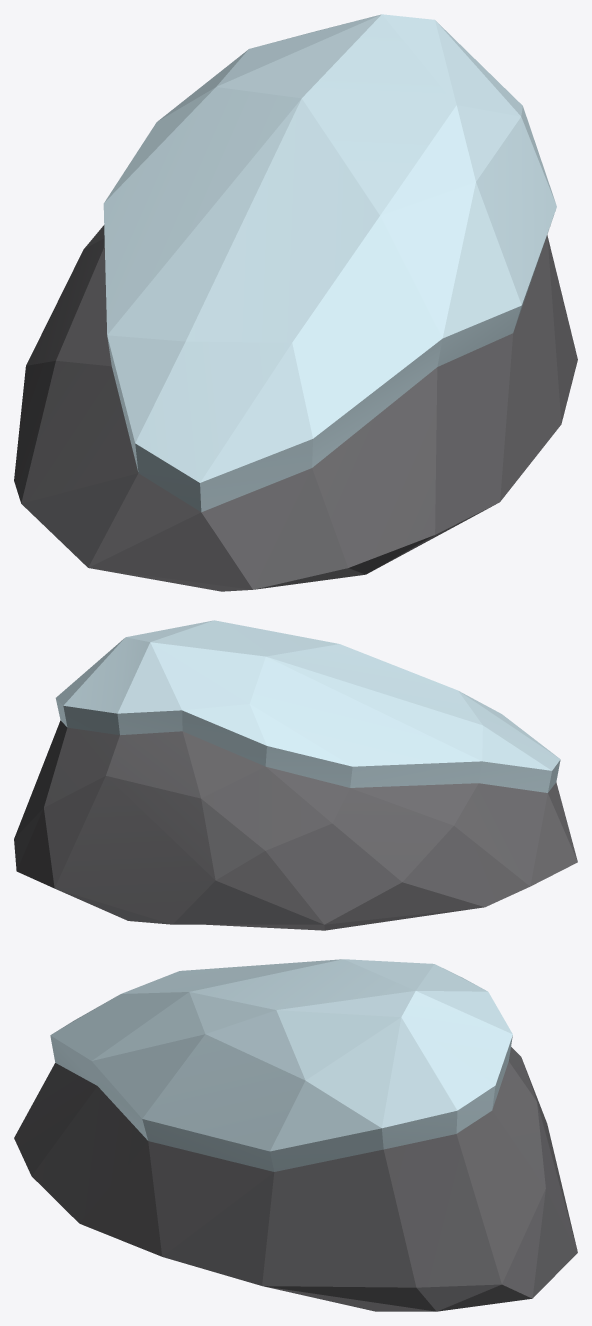
Rendered from Roca04.glb.
3 renders of one model, top to bottom at view 1: azimuth 30°, elevation 25°; view 2: azimuth 150°, elevation 25°; view 3: azimuth 270°, elevation 25°, orthographic. The views are drawn at different scales.
Parts seen in each view (by area): view 1: SM_Env_Rock_03_Snow; view 2: SM_Env_Rock_03_Snow; view 3: SM_Env_Rock_03_Snow.
Part boxes in pixels (x1,y1,x2,y2): SM_Env_Rock_03_Snow: (14,14,577,591); SM_Env_Rock_03_Snow: (14,620,577,930); SM_Env_Rock_03_Snow: (14,959,577,1311).
Bounding box in the file's own units: 1.39 × 0.7793 × 1.33.
Materials: 1 (1 with a texture image).
